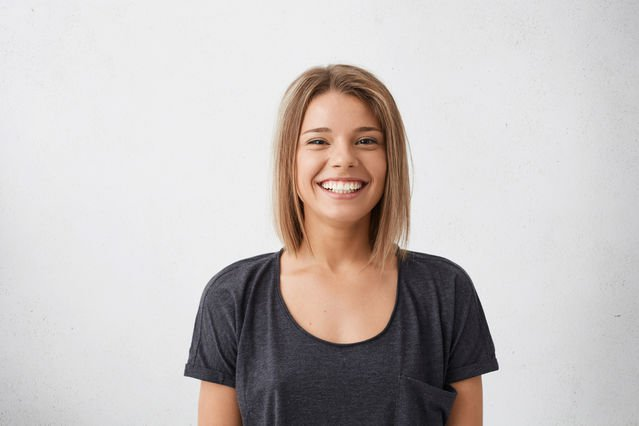noMask: (268, 59, 432, 248)
